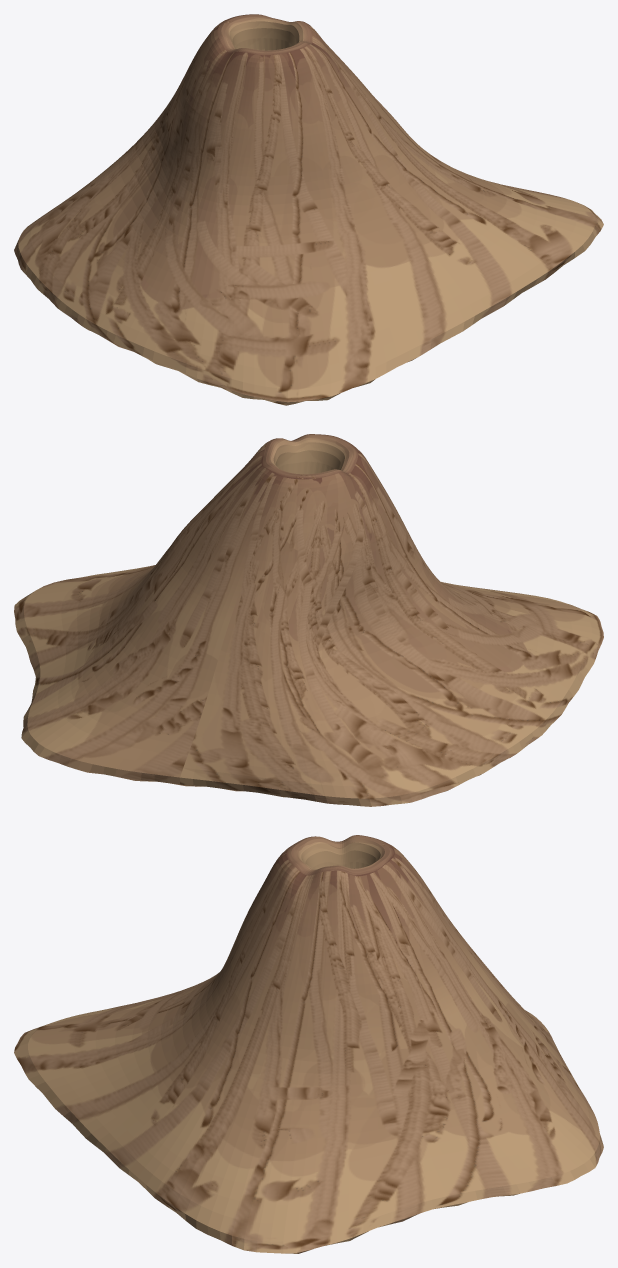
Rendered from Volcano.obj.
3 renders of one model, top to bottom at view 1: azimuth 30°, elevation 25°; view 2: azimuth 150°, elevation 25°; view 3: azimuth 270°, elevation 25°, orthographic. The views are drawn at different scales.
Parts seen in each view (by area): view 1: Cylinder; view 2: Cylinder; view 3: Cylinder.
Boxes of the visible parts, x1,y1,x2,y2 form: Cylinder: (14,14,603,405); Cylinder: (14,434,603,806); Cylinder: (14,835,603,1253).
Bounding box in the file's own units: 4.24 × 2.02 × 4.06.
Materials: 1 (1 with a texture image).
